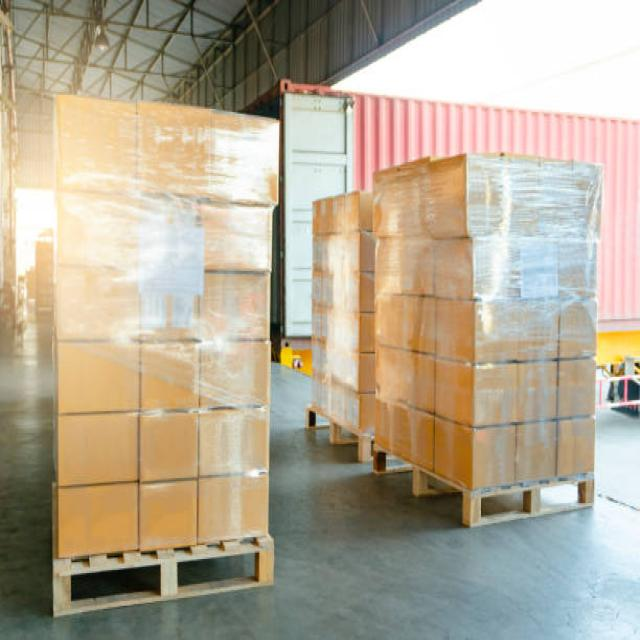Wooden-Pallets: (369, 429, 601, 537), (48, 529, 275, 626)
